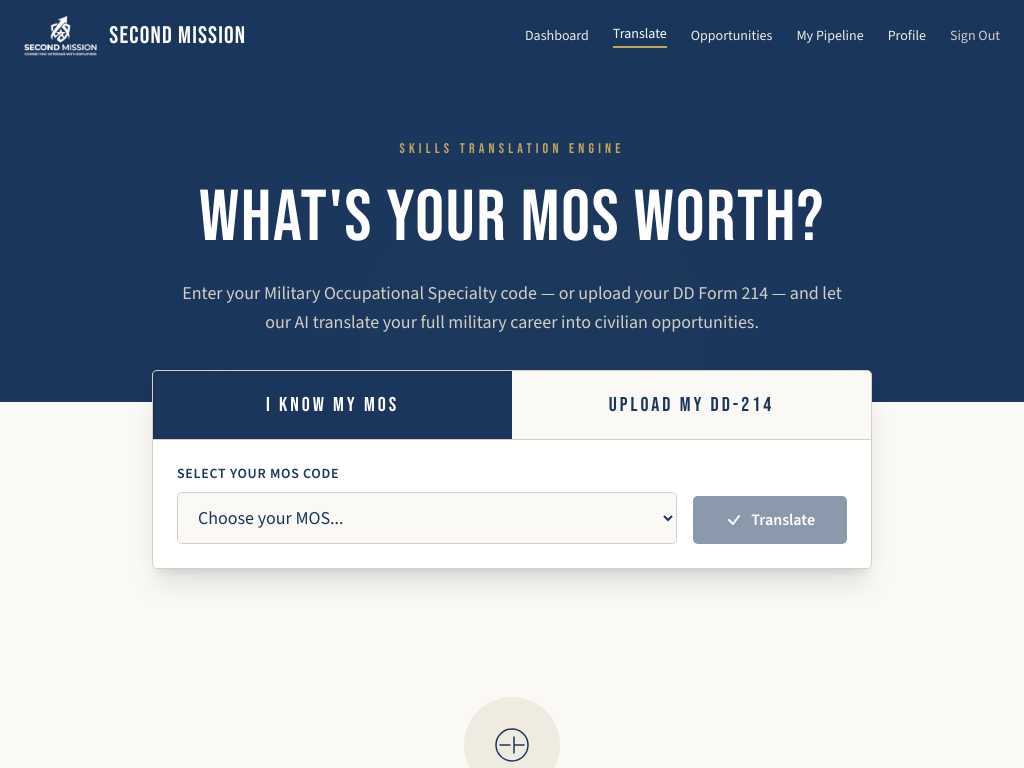
Scenario: TranslatePage › shows translated roles after selecting MOS and clicking translate
The image size is (1024, 768).
Note: Select a MOS code
Select "88M — Motor Transport Operator" in the dropdown at (427, 518), box [177,492,677,544]
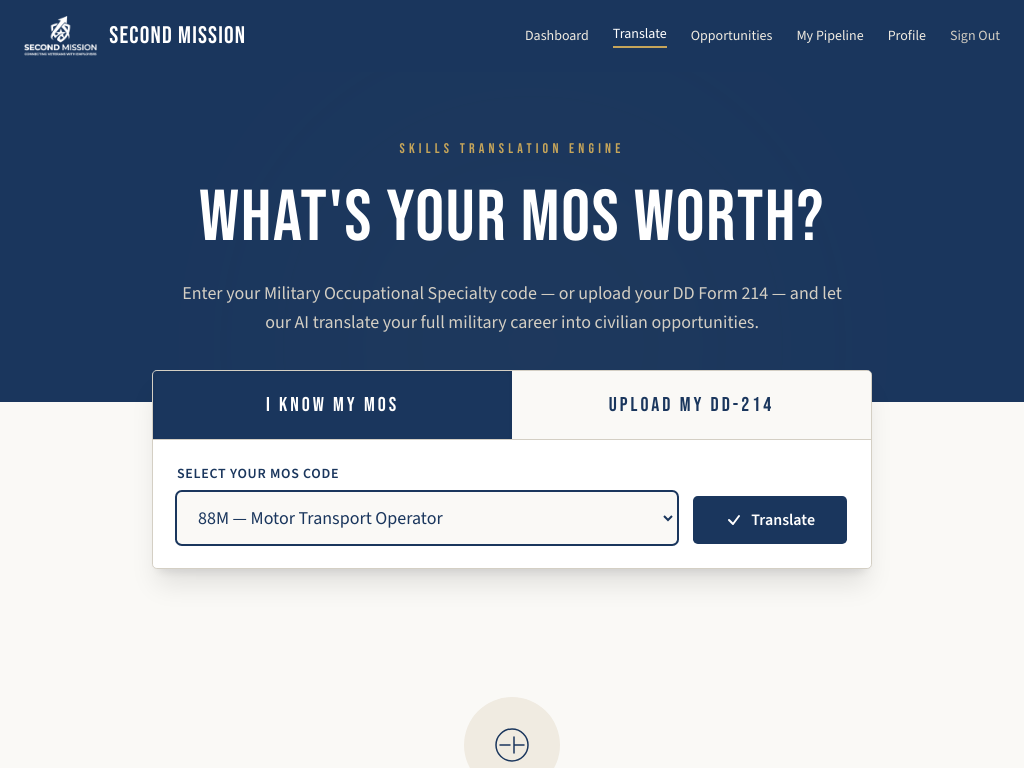
Note: Click translate
Click the button "Translate" at (770, 520), box [693,496,847,544]
(page scrolled)
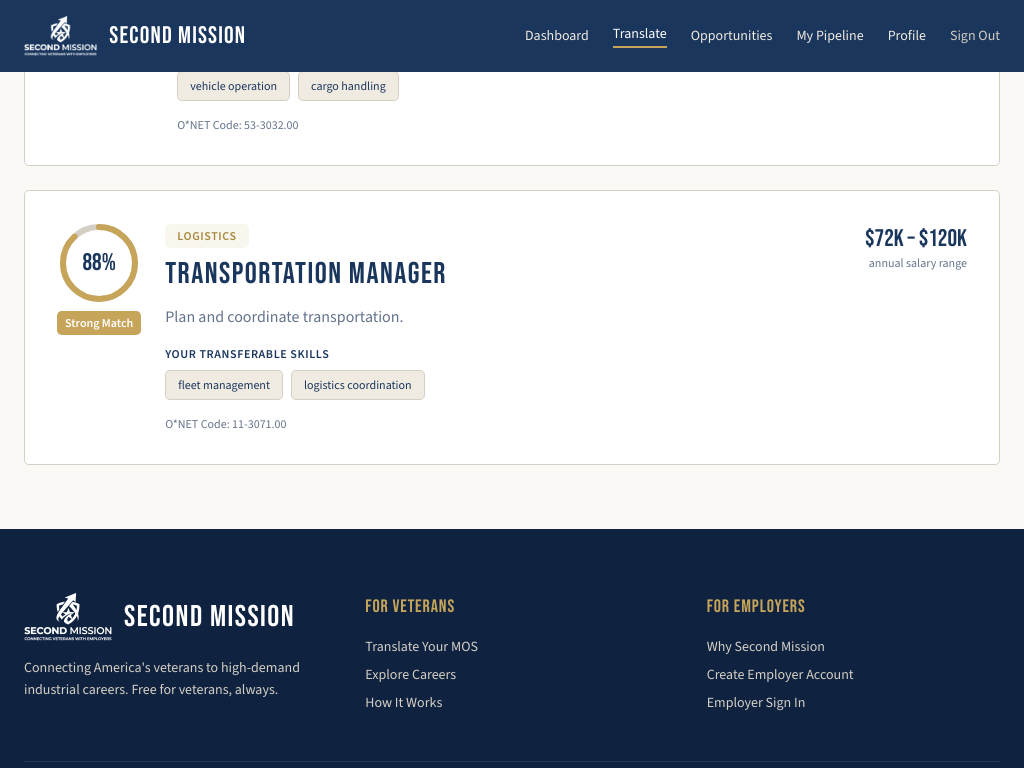
Expected: the heading "TRANSPORTATION MANAGER" is shown, [165,256,447,292]
Expected: the text "88%" is shown, [82,246,116,278]
Expected: the text "vehicle operation" is shown, [177,70,290,100]
